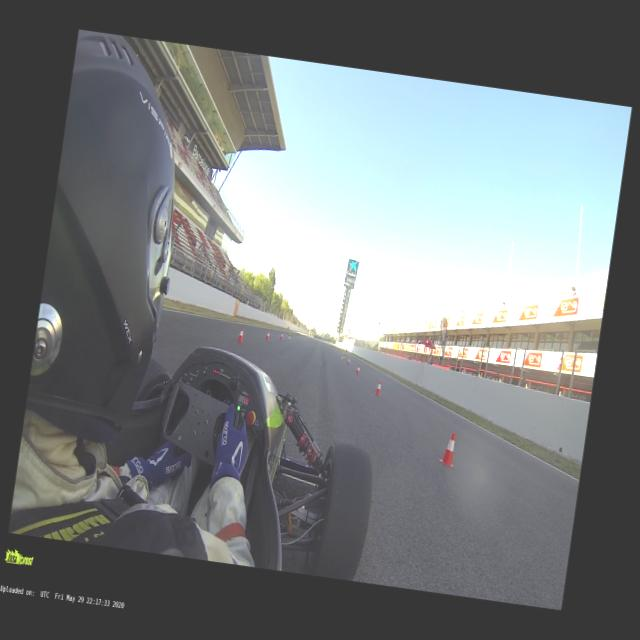orange_cone: (438, 431, 458, 466), (373, 379, 382, 396), (236, 327, 245, 342), (355, 364, 361, 376), (265, 331, 271, 342), (346, 358, 351, 366), (280, 332, 284, 341)
yellow_cone: (340, 353, 344, 359), (288, 334, 291, 339)
